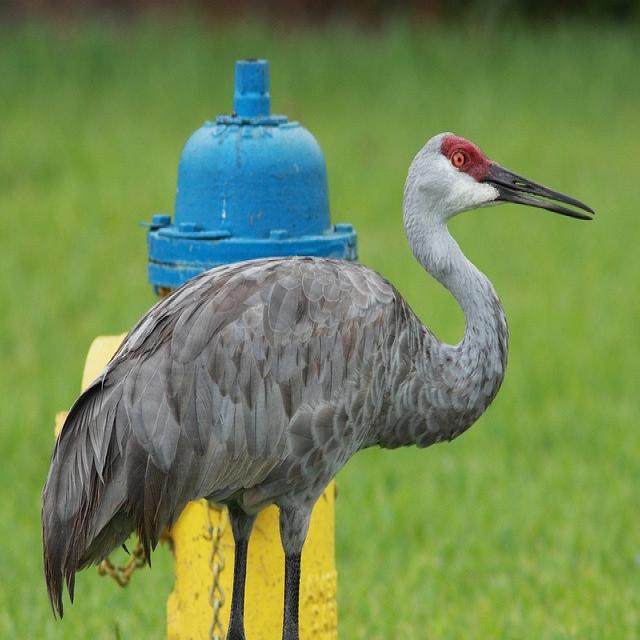fire_hydrant: (54, 57, 357, 436)
